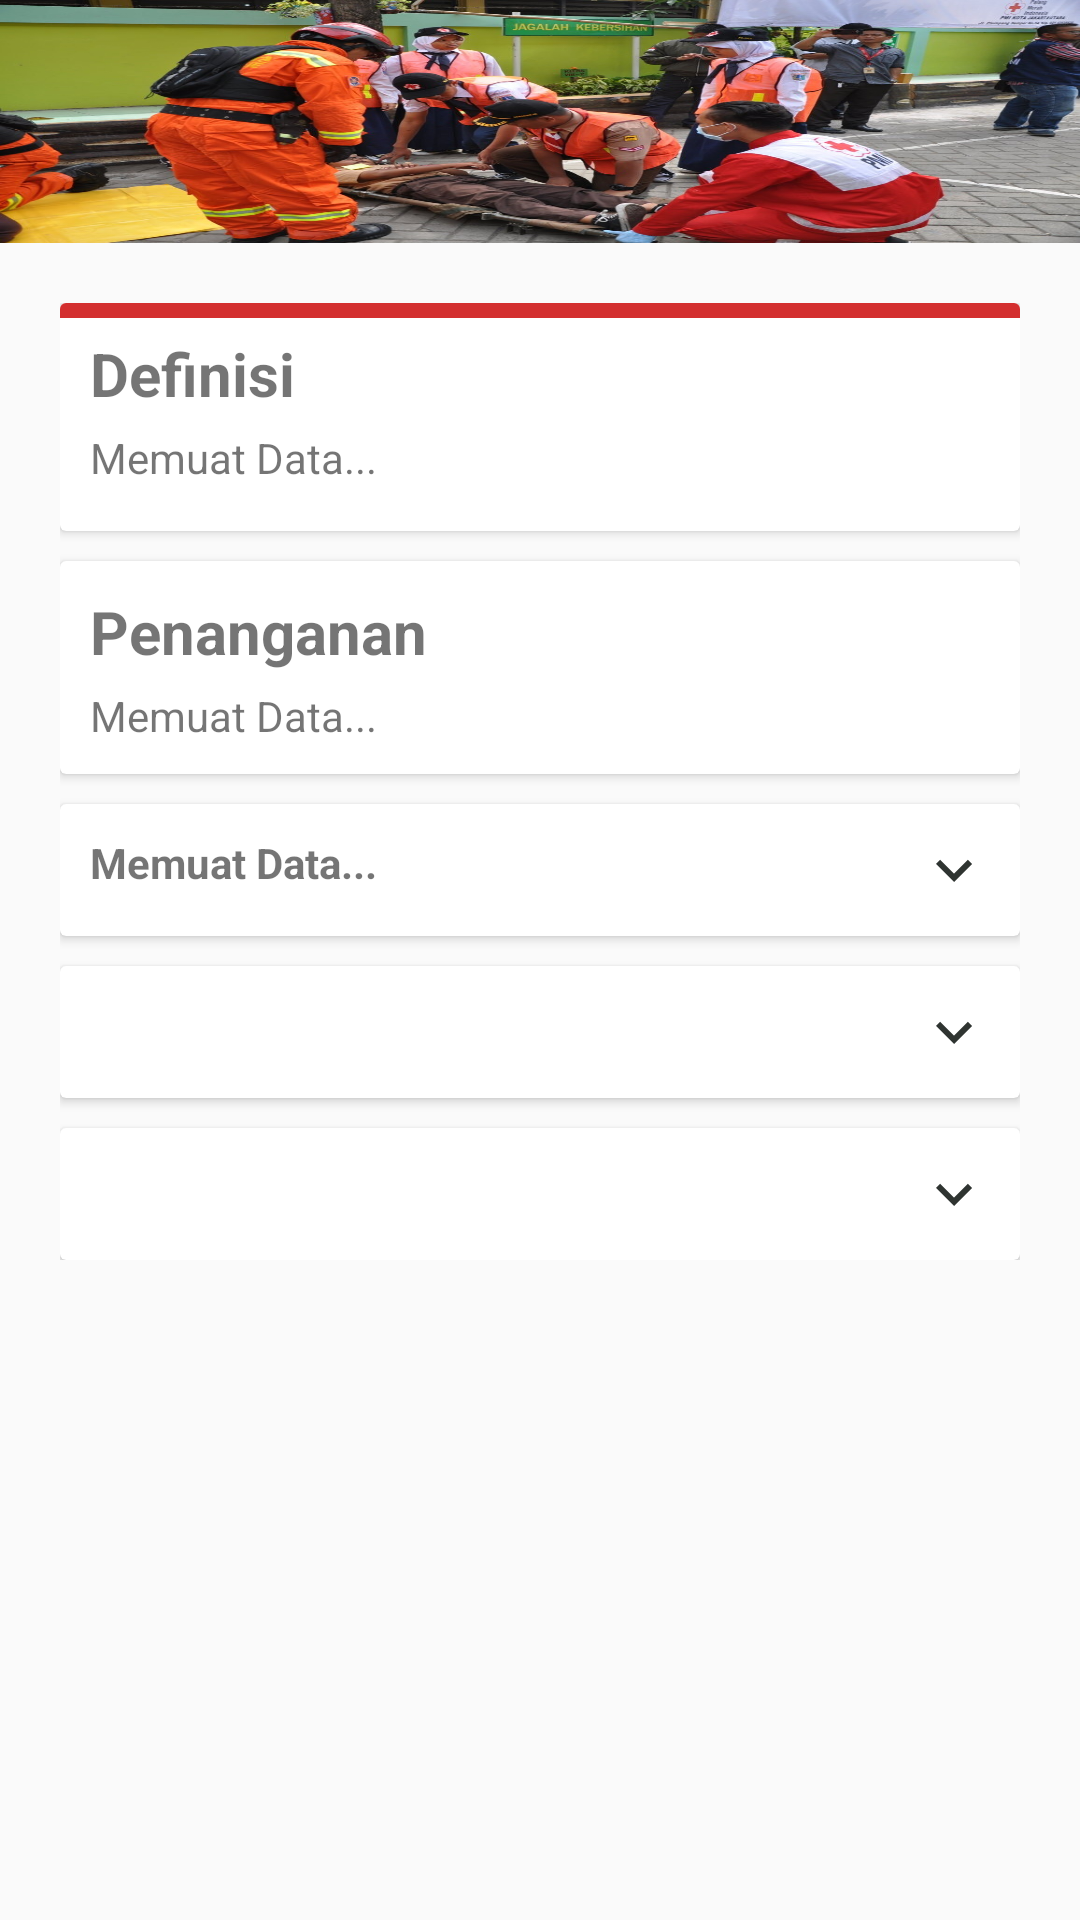

Icon bounding boxes for this 1080px×1920px phone screenshot, format (x1, y1, x2, y2):
tampilkan: (936, 860, 972, 882), (936, 1022, 972, 1044), (936, 1184, 972, 1206)
